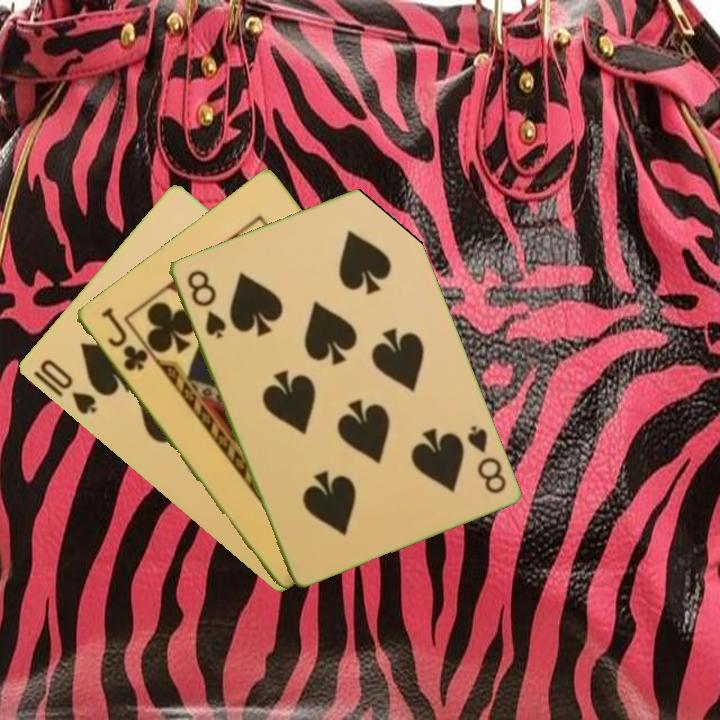10s: (36, 355, 100, 418)
8s: (462, 421, 509, 497), (183, 266, 229, 342)
Jc: (97, 304, 150, 374)
